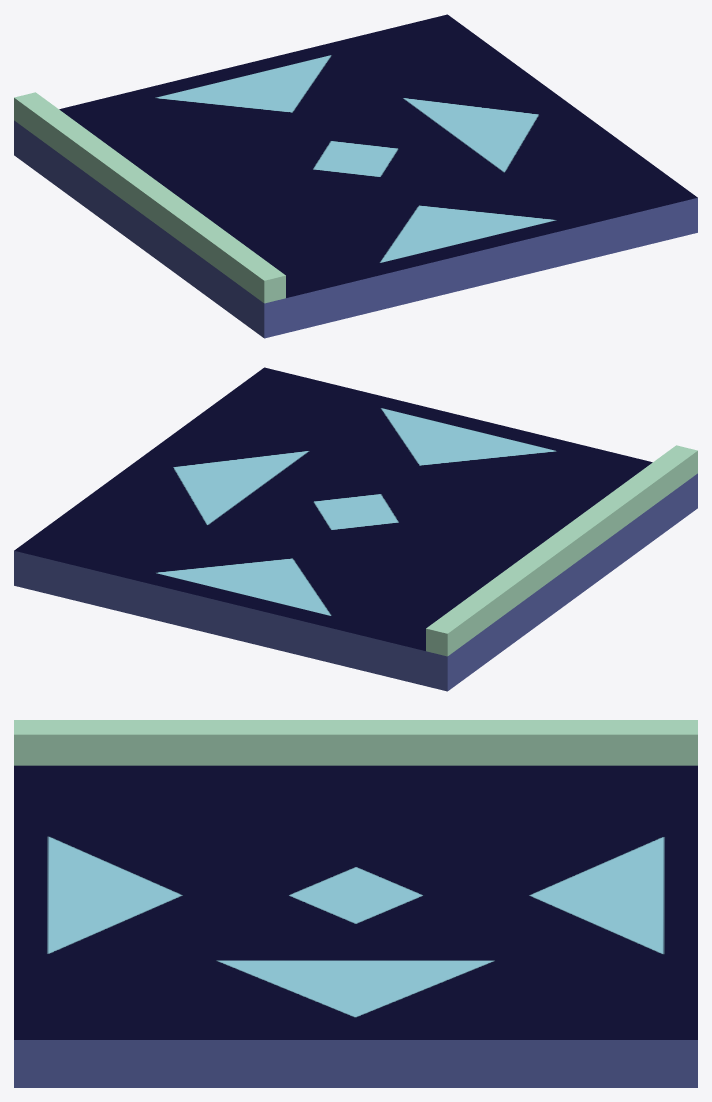
File: conveer_6.fbx
3 renders of one model, top to bottom at view 1: azimuth 30°, elevation 25°; view 2: azimuth 150°, elevation 25°; view 3: azimuth 270°, elevation 25°, orthographic. The views are drawn at different scales.
Parts seen in each view (by area): view 1: Cube, Cube.001; view 2: Cube, Cube.001; view 3: Cube, Cube.001.
Boxes of the visible parts, x1,y1,x2,y2 form: Cube: (14,14,697,338); Cube.001: (14,92,285,303); Cube: (14,367,697,691); Cube.001: (426,445,697,656); Cube: (14,765,697,1087); Cube.001: (14,720,697,765).
Size of the model in its own units: 200 by 25.43 by 200.
3 materials, 1 textured.
